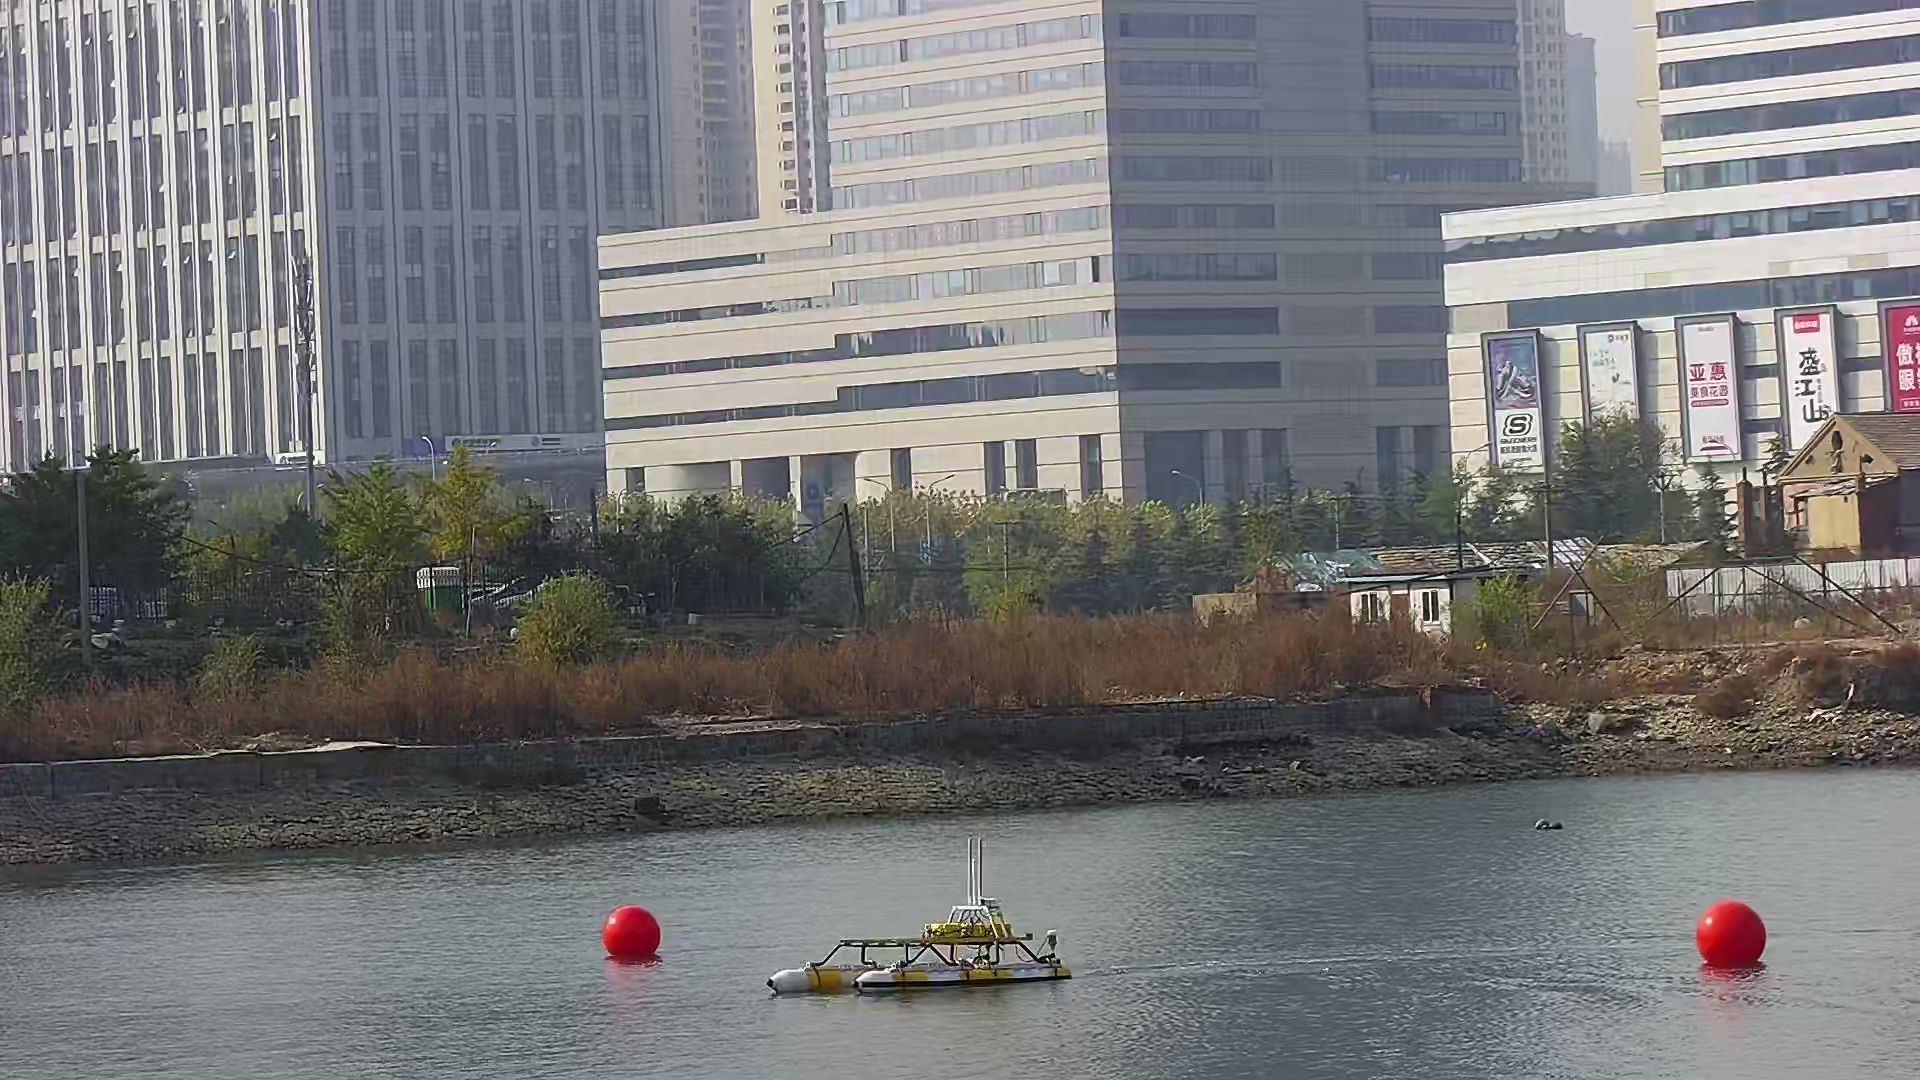ball: (1693, 899, 1768, 973), (603, 906, 663, 960)
boat: (761, 906, 1073, 989)
rubbish: (1531, 815, 1564, 832)
